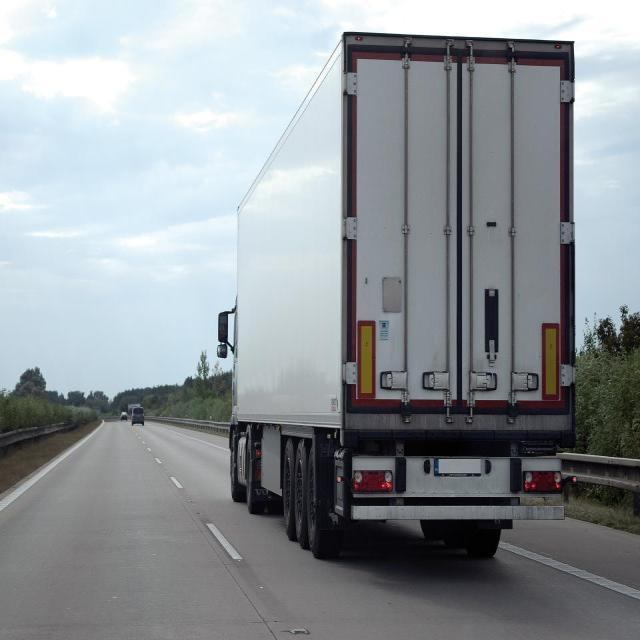covered: (230, 19, 600, 550)
